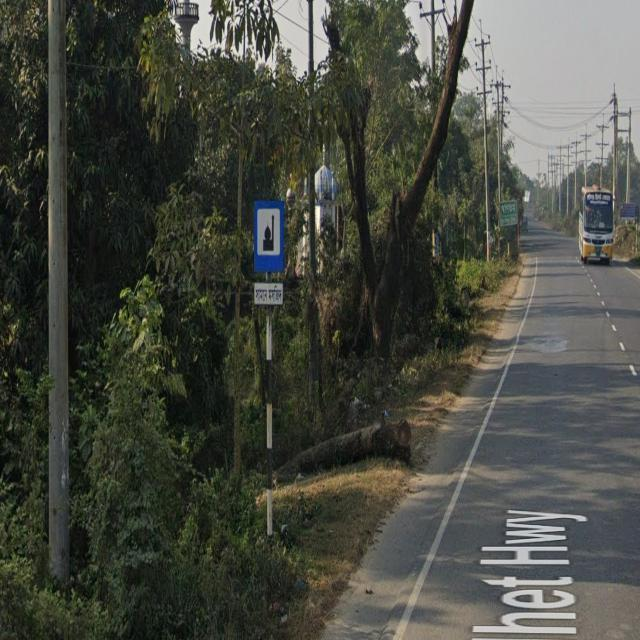Mosque in front: (251, 197, 286, 309)
